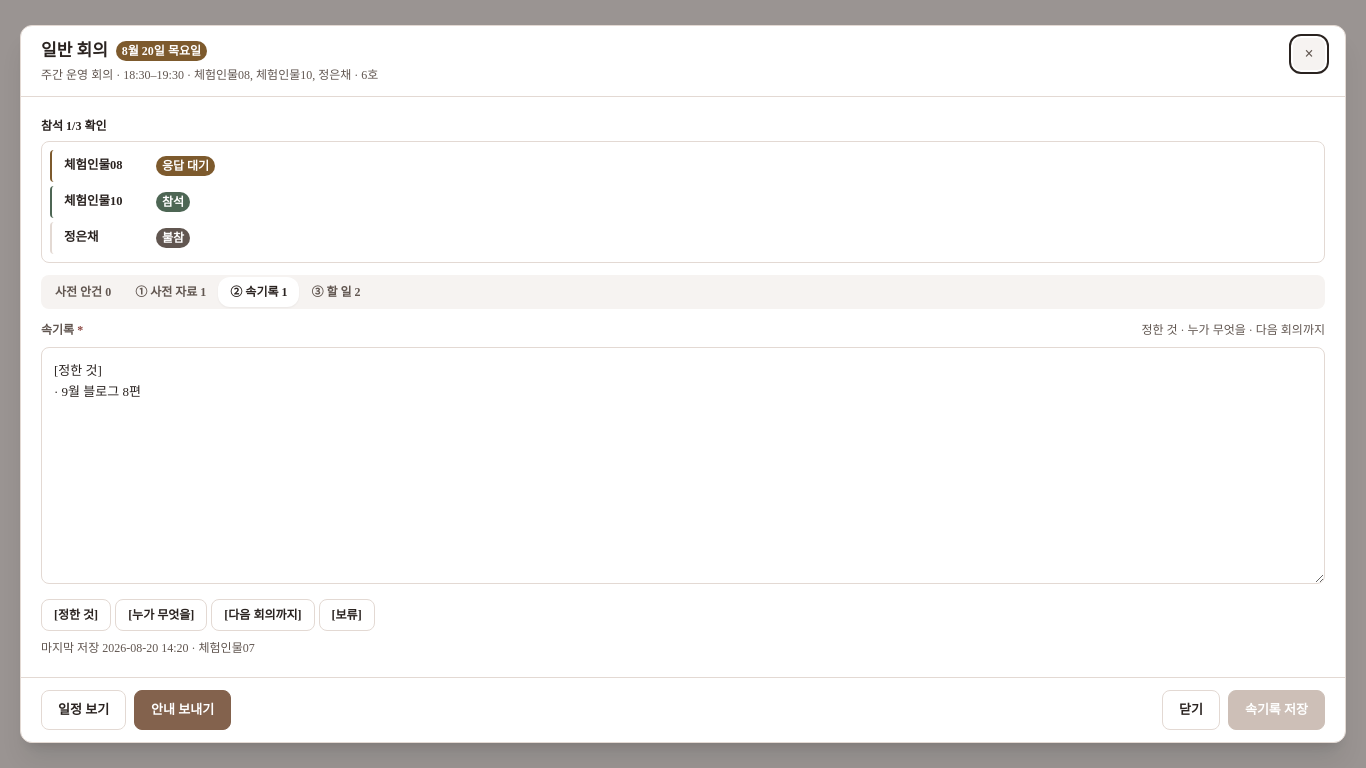
Test: 「안내 보내기」는 원문 §66 바닥 왼쪽(「일정 보기」 옆)에 서고, 누르면 이 회의로 보낸 뒤 서버가 센 수를 알린다
This screenshot has width=1366, height=768.
Click the button "안내 보내기".
click(183, 710)  # box x1=134 y1=690 x2=231 y2=730
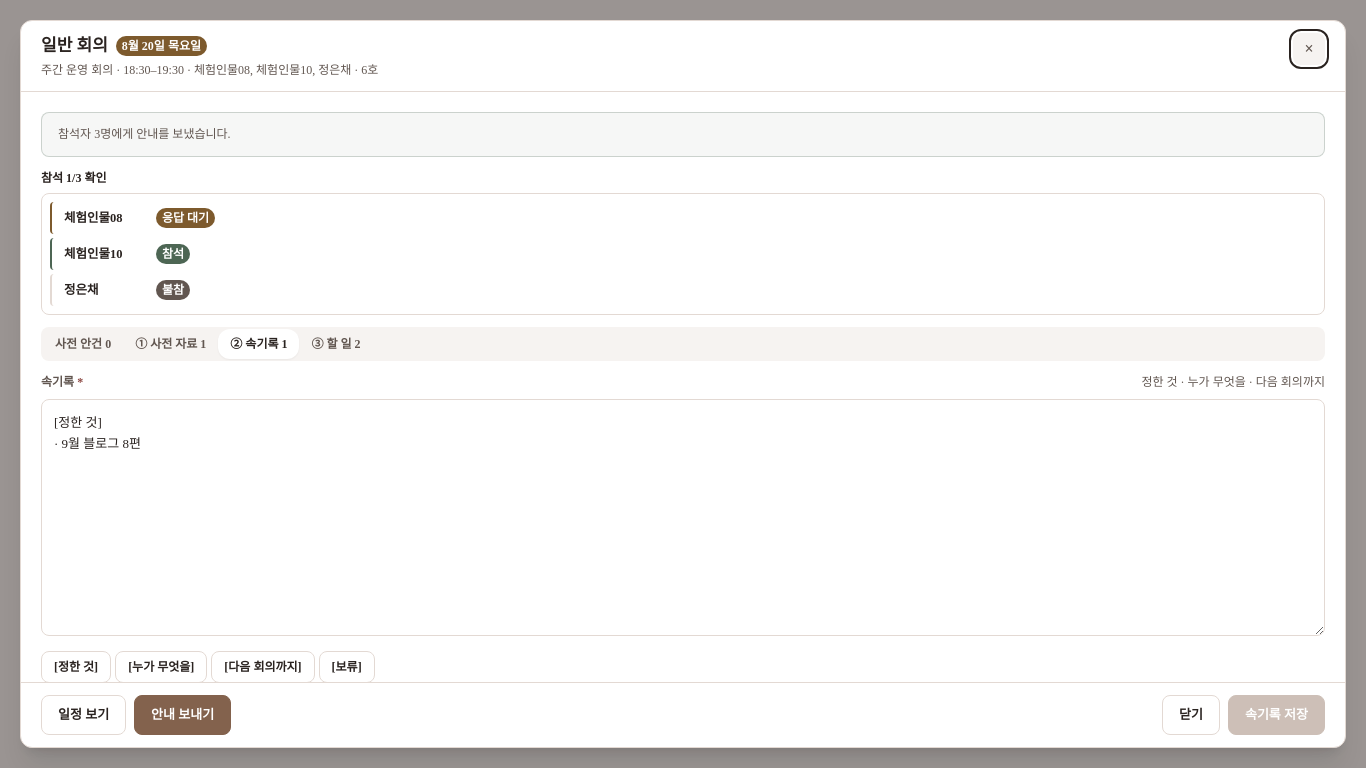
Now the message reads "참석자 3명에게 안내를 보냈습니다.", box x1=58 y1=126 x2=231 y2=140
